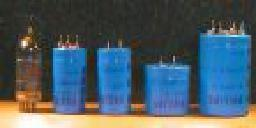Electrolytic-Capacitor: (197, 12, 255, 119), (142, 52, 194, 121), (49, 31, 91, 116), (93, 37, 137, 118), (12, 18, 45, 115)
